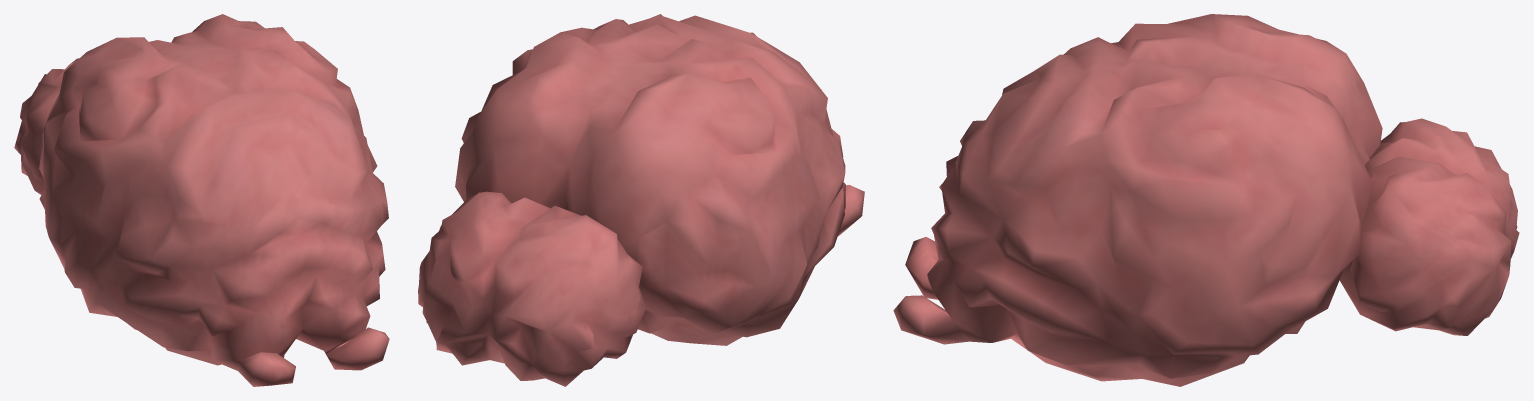
File: Brain.glb
3 renders of one model, left to right at view 1: azimuth 30°, elevation 25°; view 2: azimuth 150°, elevation 25°; view 3: azimuth 270°, elevation 25°, orthographic. The views are drawn at different scales.
Parts seen in each view (by area): view 1: brain.001; view 2: brain.001; view 3: brain.001.
Boxes of the visible parts, x1,y1,x2,y2 form: brain.001: [14, 14, 389, 386]; brain.001: [418, 14, 864, 386]; brain.001: [893, 14, 1519, 386].
Bounding box in the file's own units: 0.0744 × 0.0647 × 0.1209.
1 material, 1 textured.
